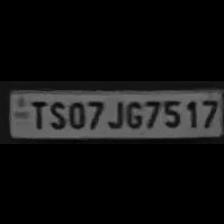0: (65, 97, 85, 128)
1: (183, 96, 199, 128)
5: (160, 96, 182, 128)
7: (196, 96, 220, 128), (83, 96, 103, 128), (142, 96, 160, 128)
G: (124, 96, 142, 128)
J: (105, 96, 125, 128)
S: (45, 96, 67, 128)
T: (26, 96, 44, 128)
